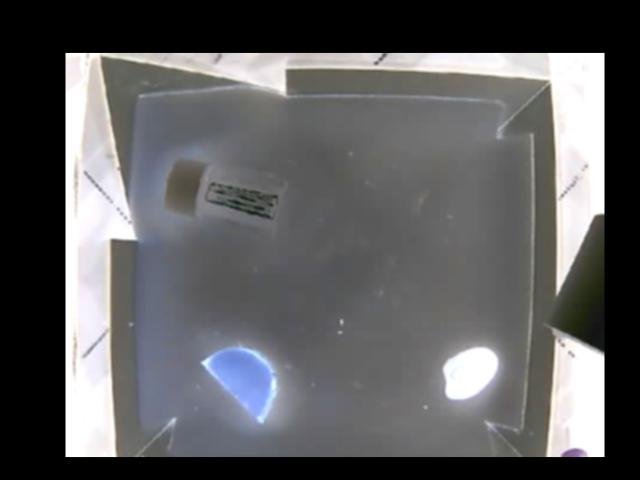Bottle: (164, 158, 286, 221)
Pebble: (438, 345, 500, 400)
Potato: (201, 347, 276, 418)
